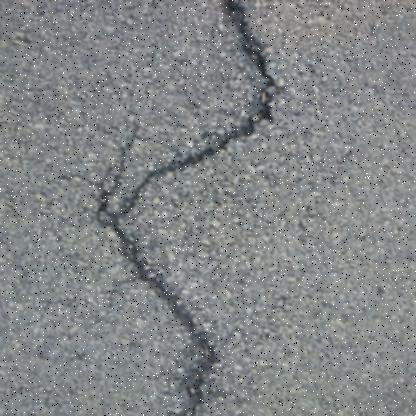Cracks: (82, 0, 291, 415)
